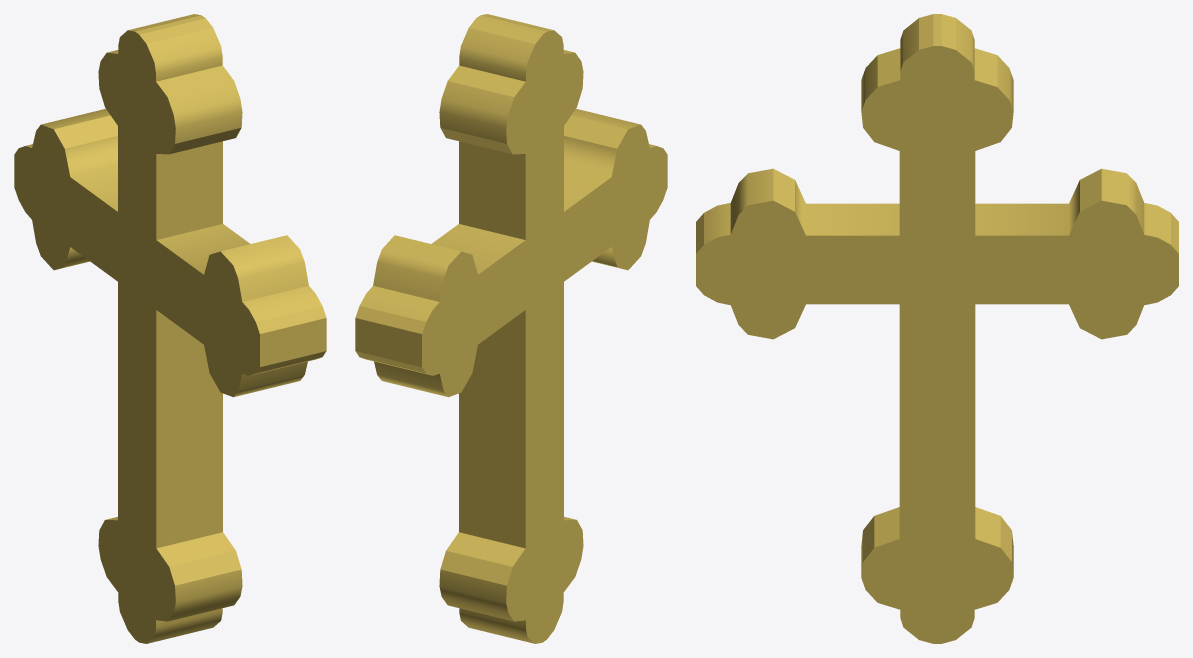
The model's file is krossUV.fbx.
The picture shows the model from 3 angles, left to right: view 1: azimuth 30°, elevation 25°; view 2: azimuth 150°, elevation 25°; view 3: azimuth 270°, elevation 25°; orthographic projection.
Visible parts, largest first — view 1: polySurface5; view 2: polySurface5; view 3: polySurface5.
Boxes of the visible parts, x1,y1,x2,y2 form: polySurface5: [14, 14, 326, 643]; polySurface5: [355, 14, 667, 643]; polySurface5: [696, 14, 1178, 643].
Size of the model in its own units: 0.00609 by 0.0531 by 0.0388.
